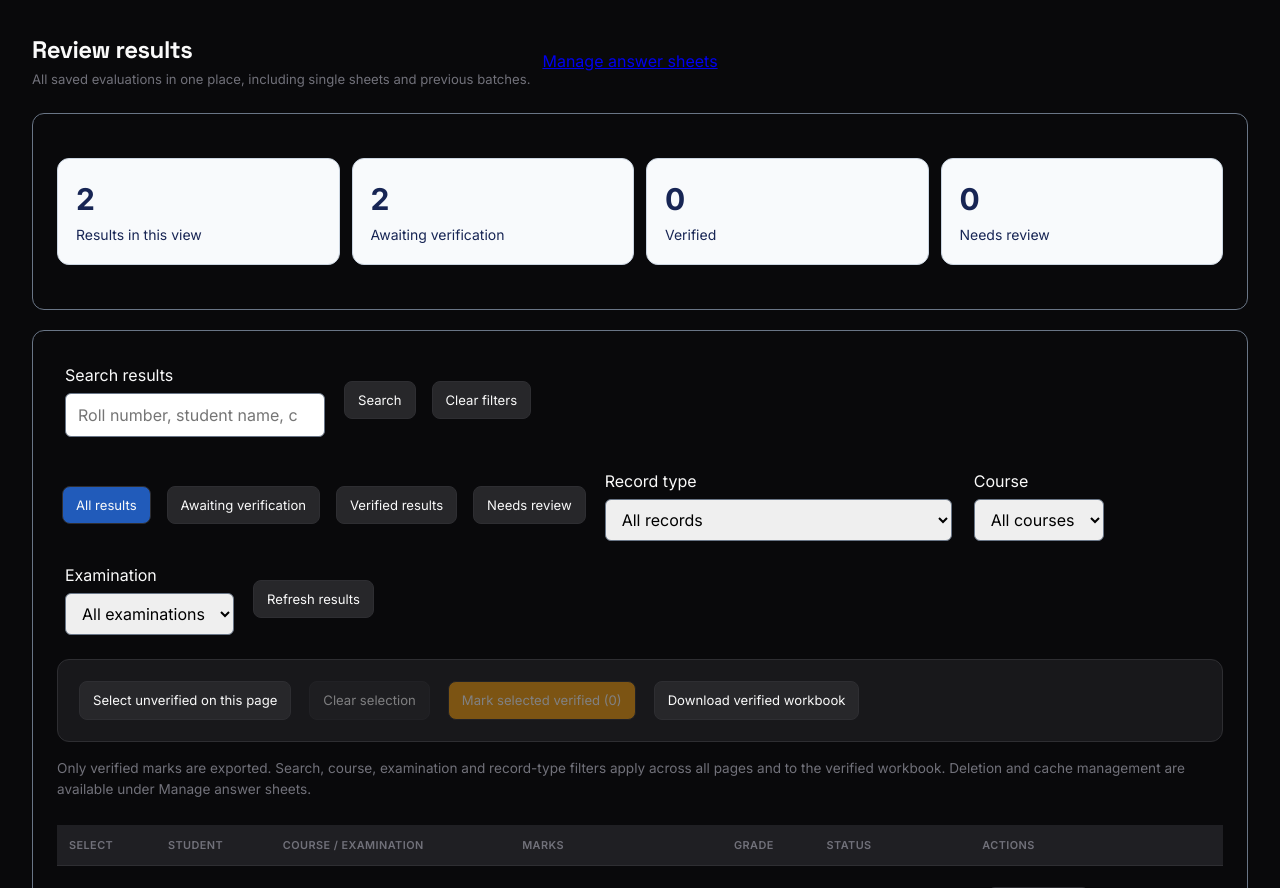
Test case: search and source filters run on the server and clear selection
This screenshot has width=1280, height=888.
Click the button "Select unverified on this page" at (185, 700), box [79, 681, 291, 720]
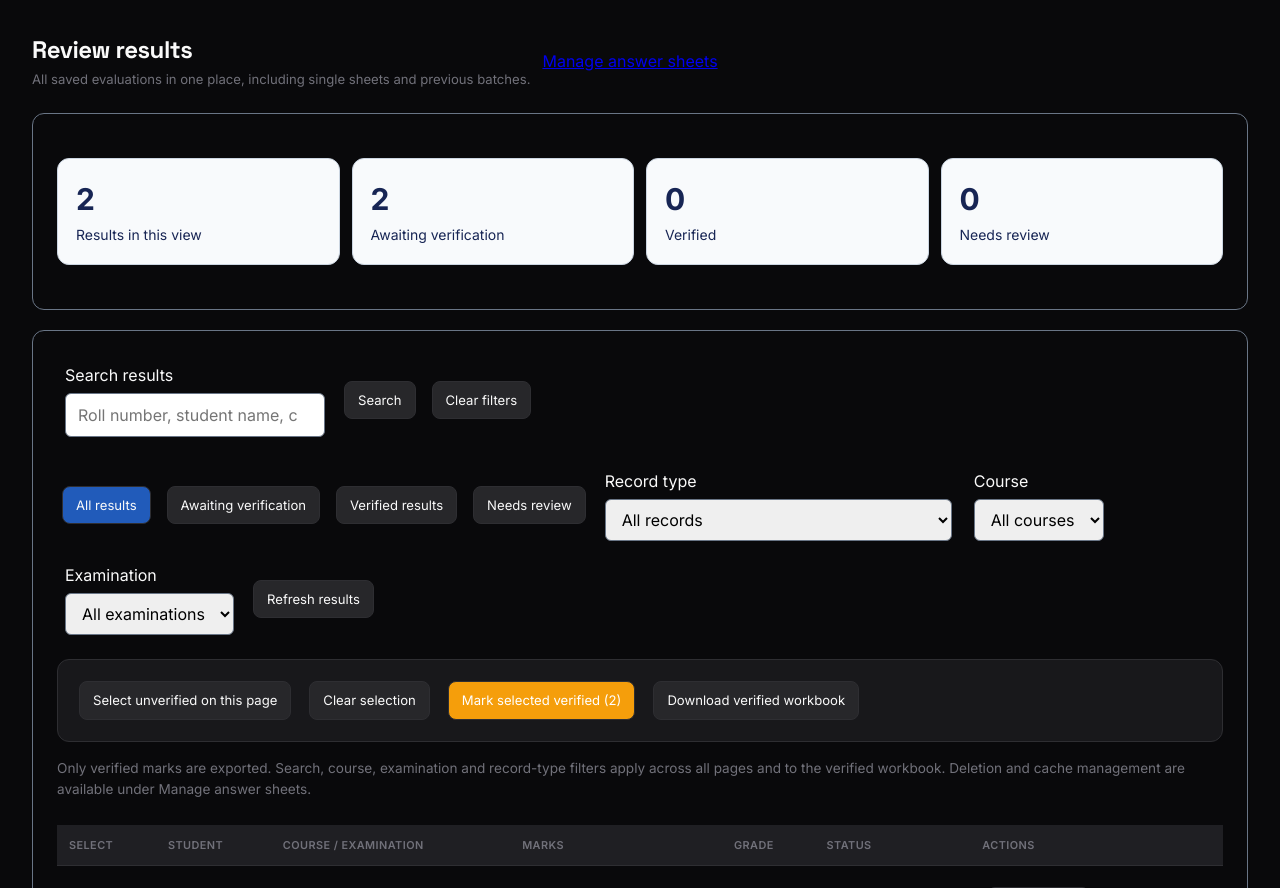
Type "101" into the search field labelled "Search results" at (195, 415), box [65, 393, 325, 437]
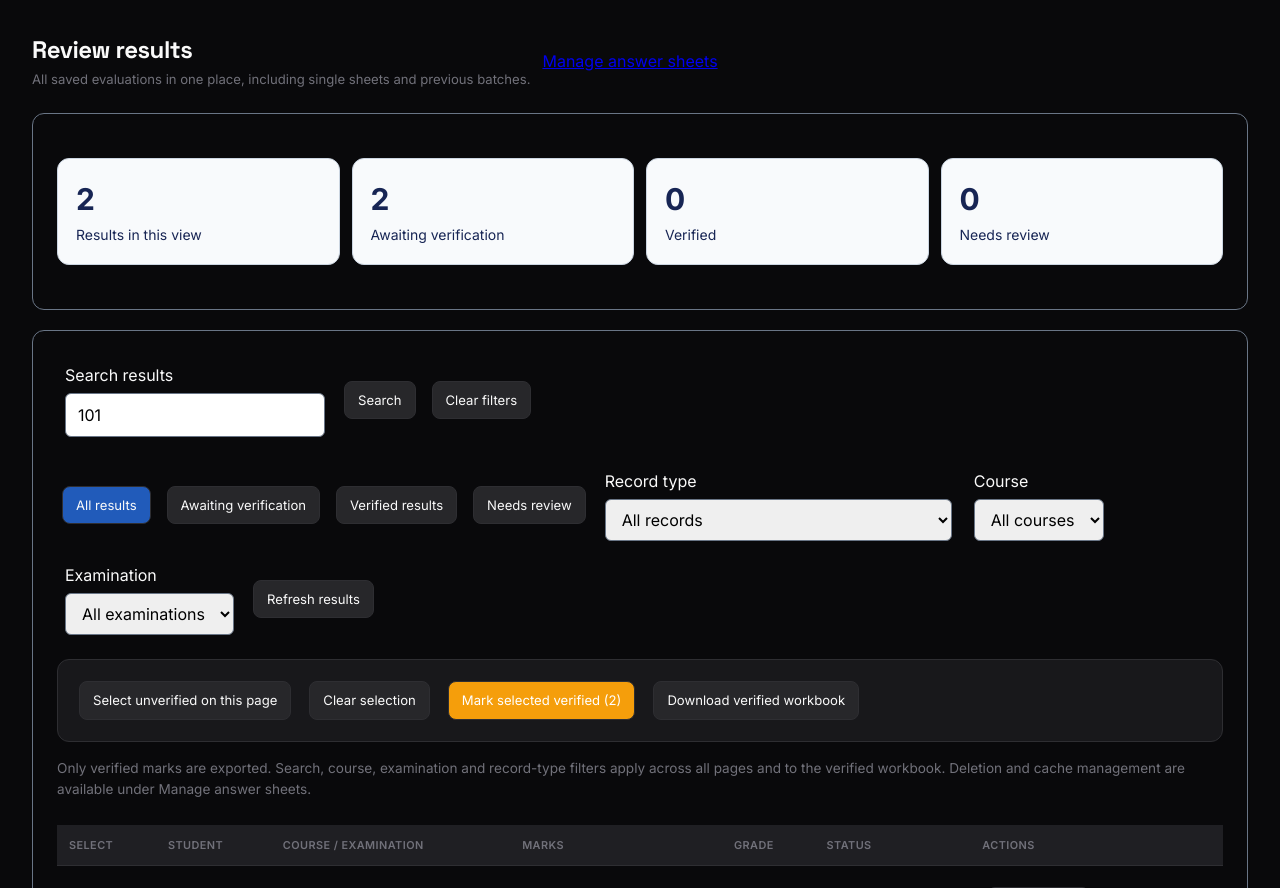
Click the button "Search" at (380, 400), box [344, 381, 416, 420]
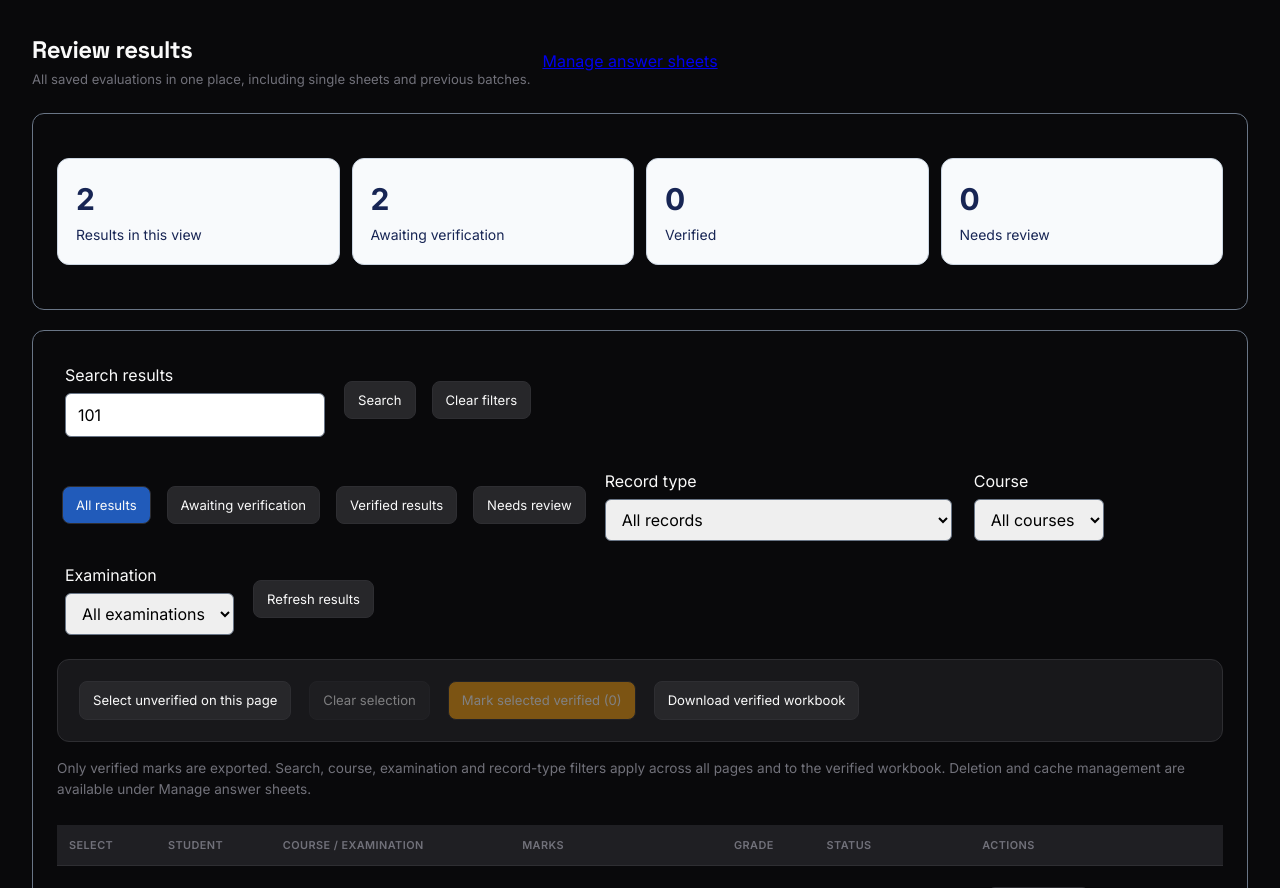
Check: the button "Mark selected verified (0)" is disabled, box [448, 681, 636, 720]
Select "Saved single and previous batch results" in the dropdown labelled "Record type" at (778, 520), box [605, 499, 952, 541]
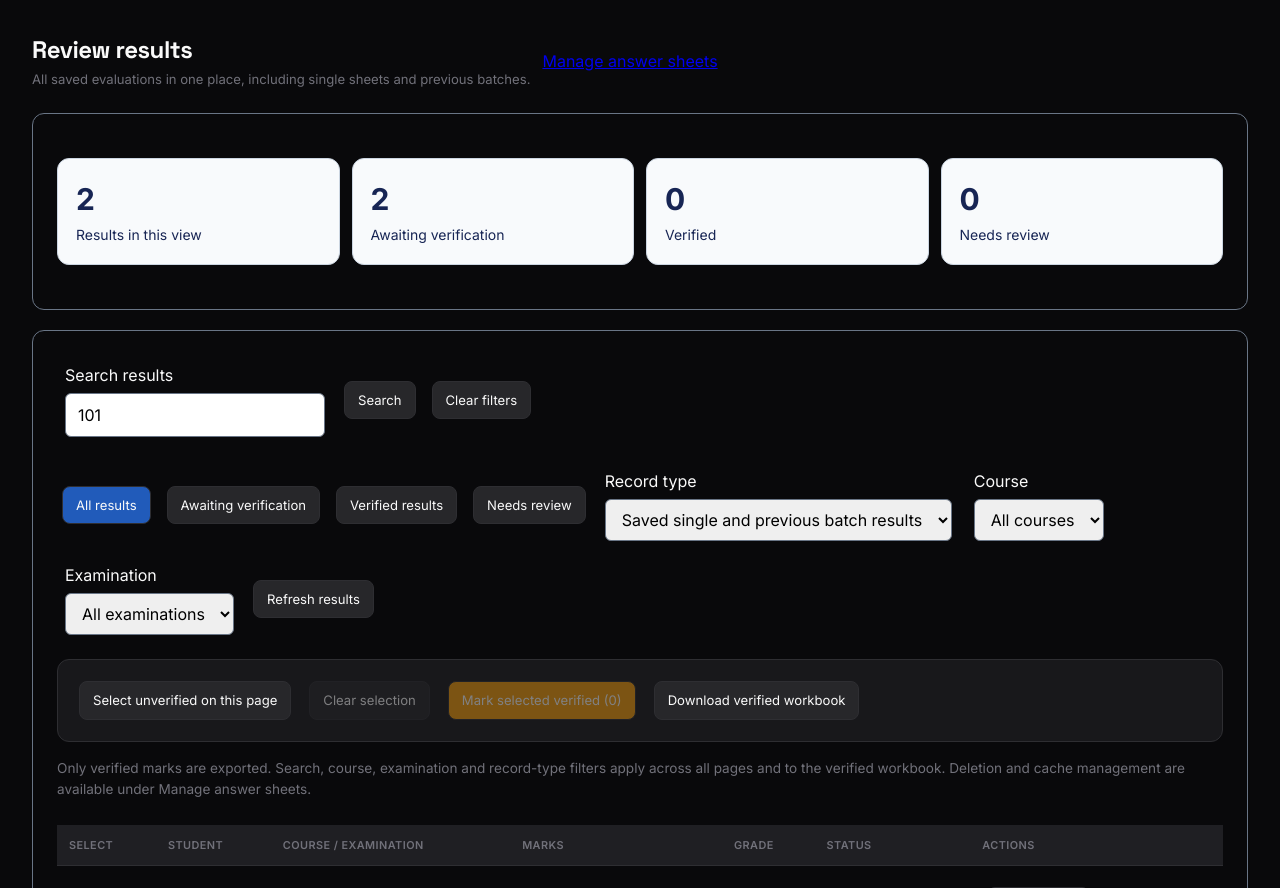
Click the button "Clear filters" at (481, 400), box [432, 381, 531, 420]
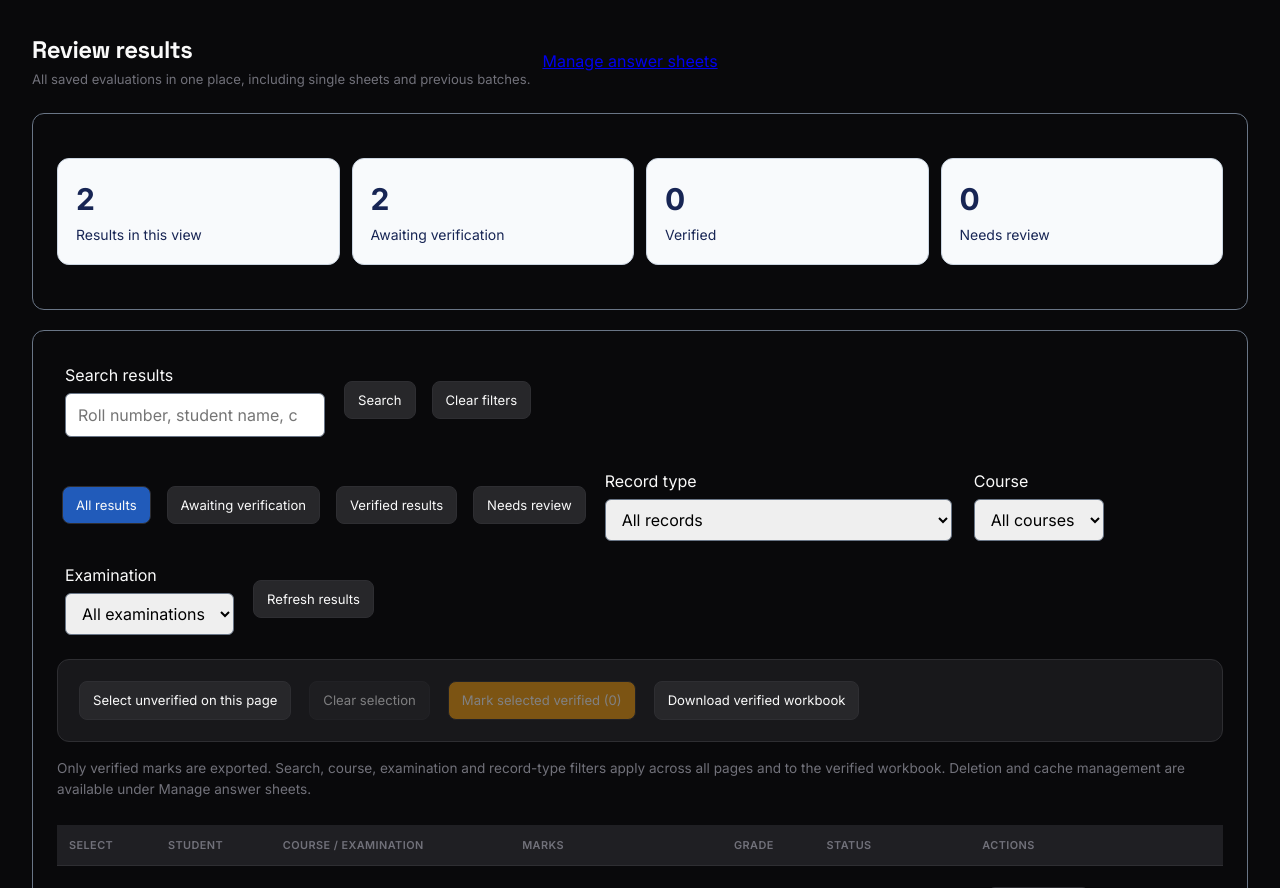
Check: the search field labelled "Search results" is empty, box [65, 393, 325, 437]
